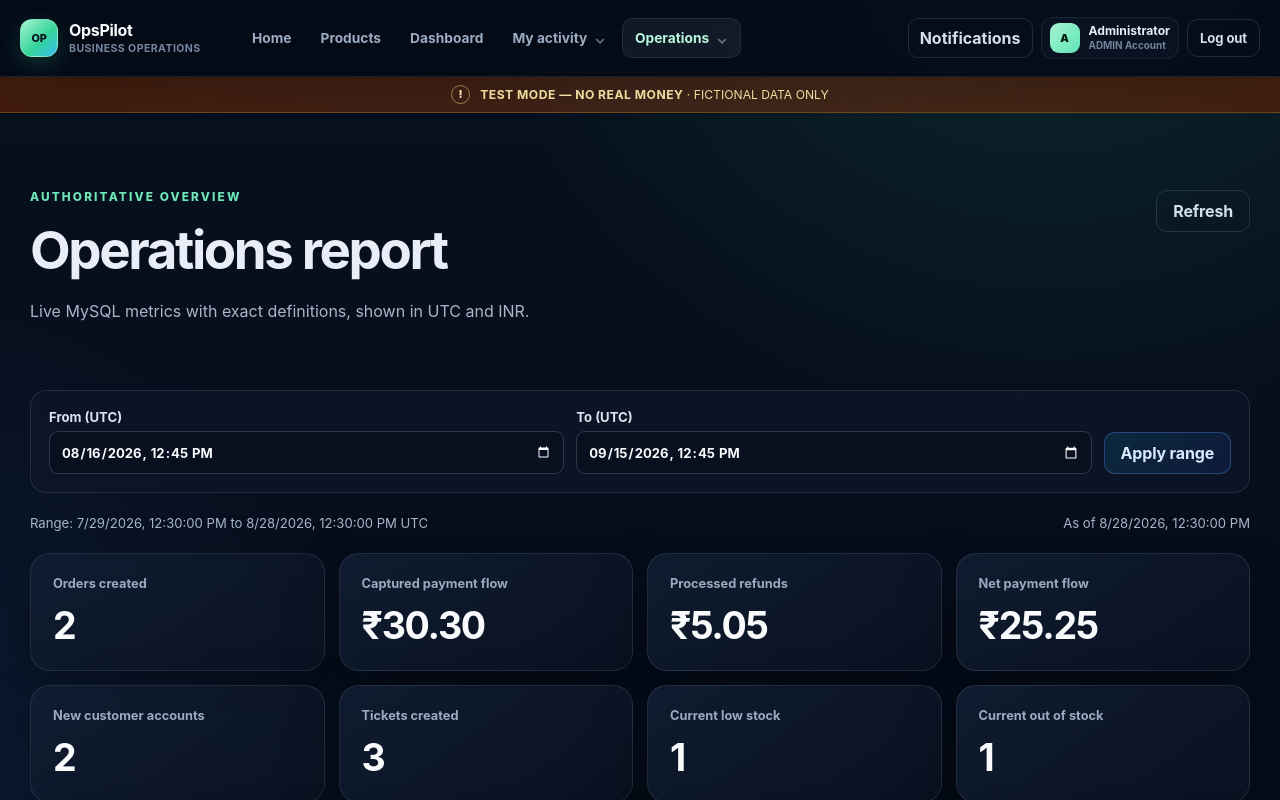
it: Phase 5 reports UI › shows validation and API failure states without discarding a loaded report
Expected: the text "Orders created" is shown, [53, 576, 147, 591]
Replace the text in the field labelled "From (UTC)" with "2026-08-03T00:00" at x=307, y=453, box [49, 431, 564, 474]
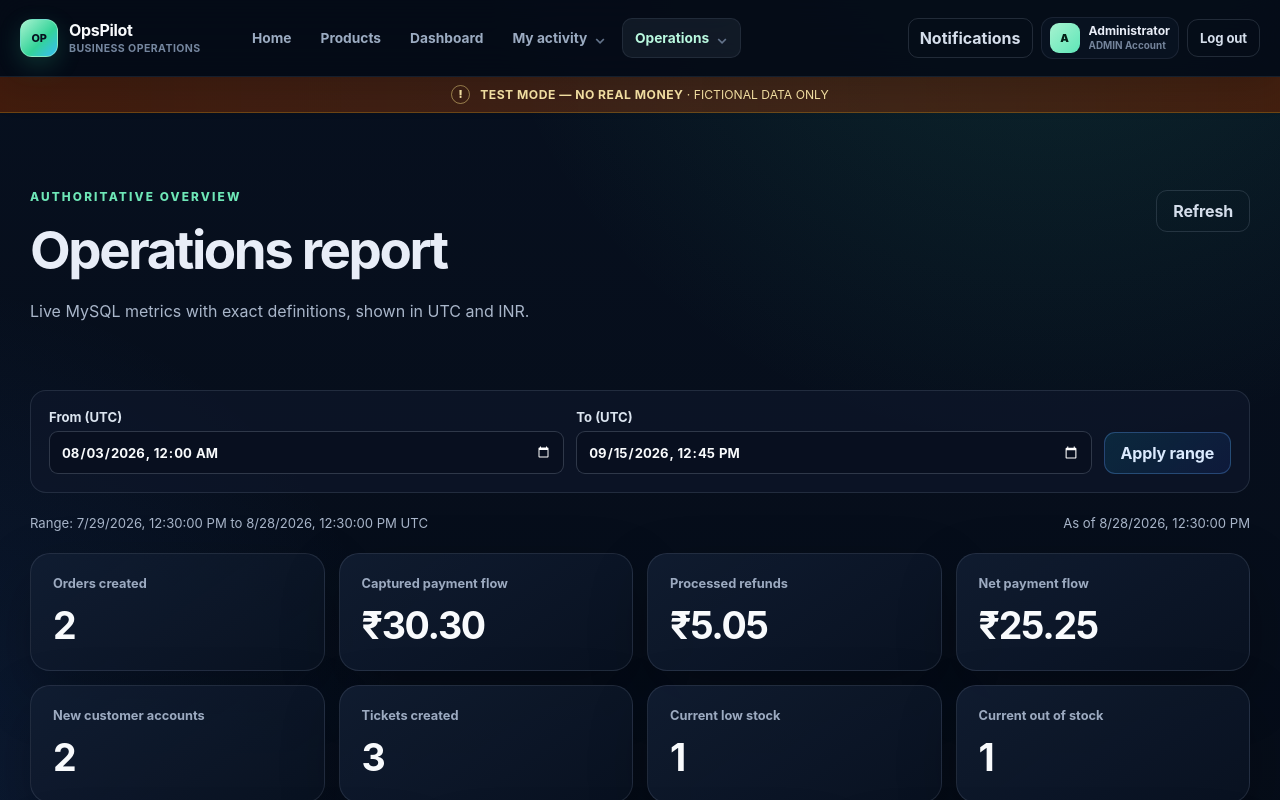
Replace the text in the field labelled "To (UTC)" with "2026-08-02T00:00" at x=834, y=453, box [576, 431, 1092, 474]
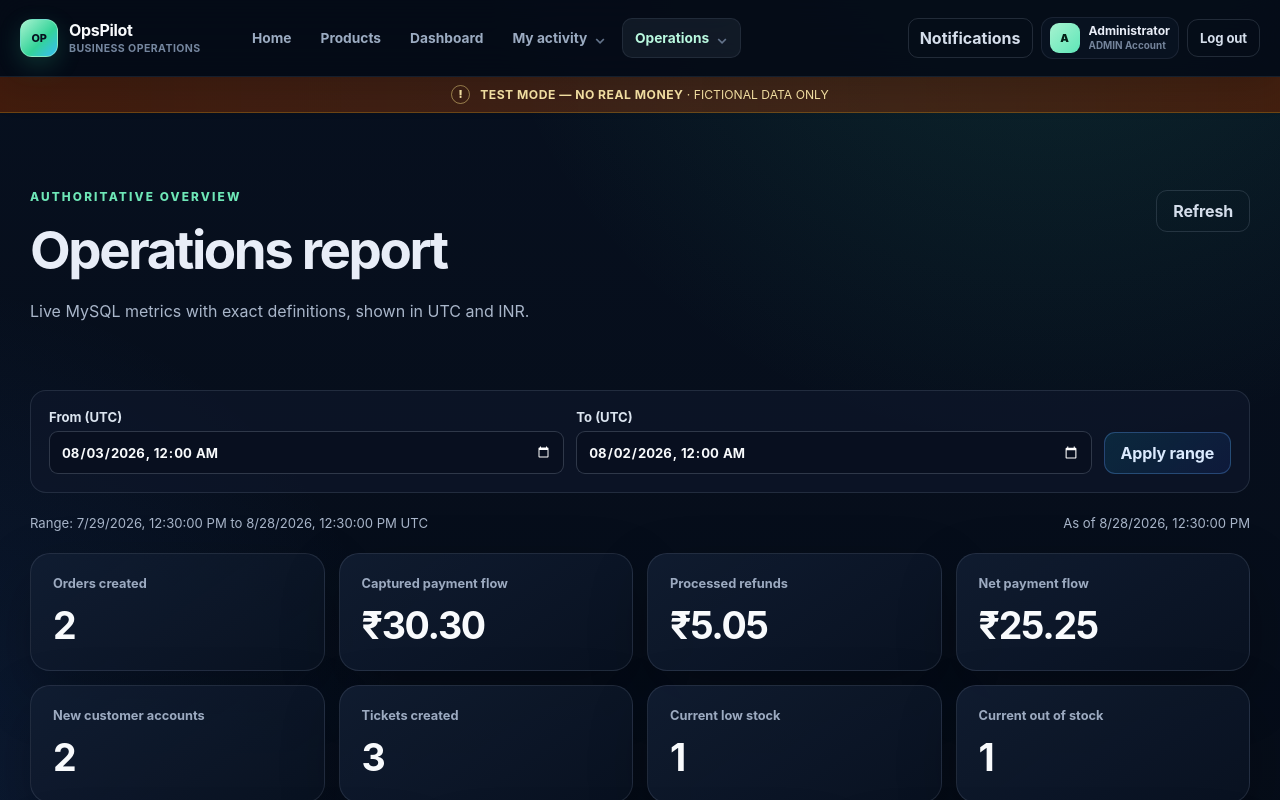
Click the button "Apply range" at x=1167, y=453, box [1104, 432, 1231, 474]
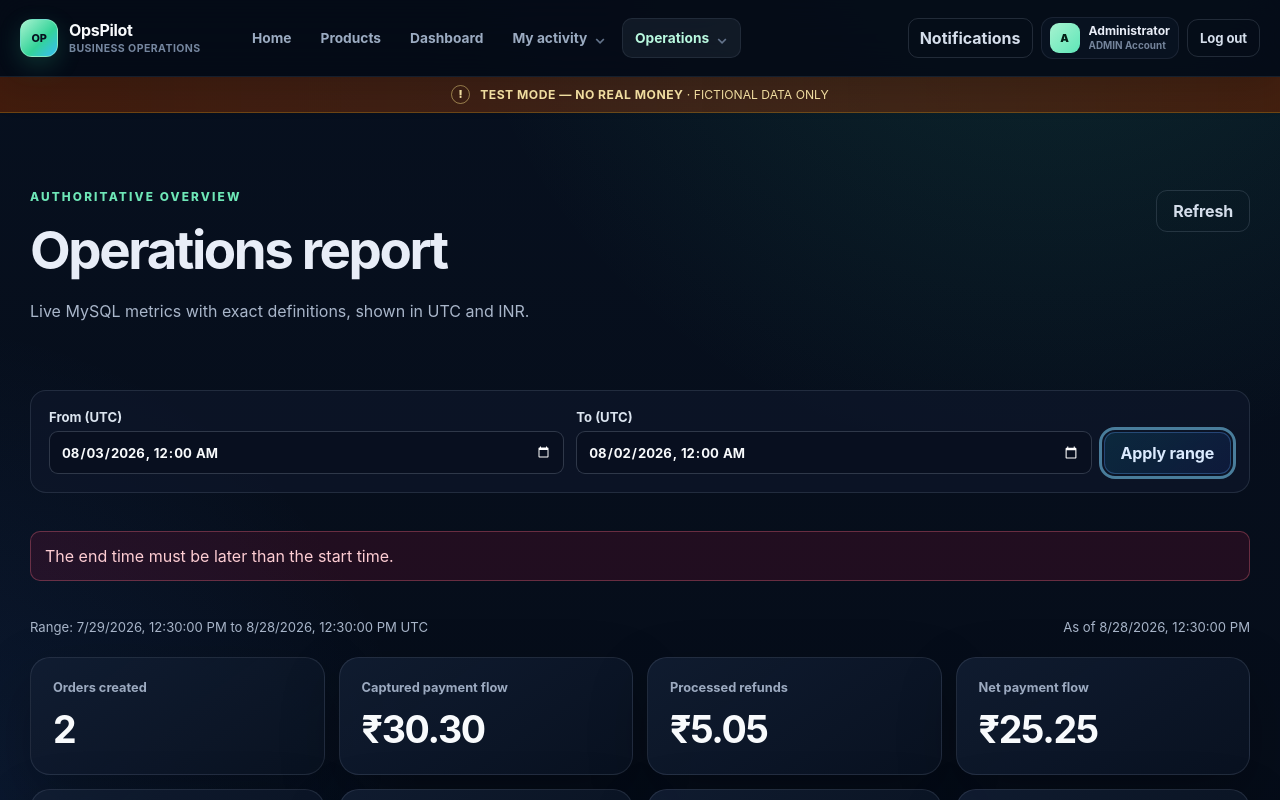
Expected: the text "Orders created" is shown, [53, 680, 147, 695]
Result: the message "The end time must be later than the start time." is shown at [30, 531, 1250, 581]
Click the button "Refresh" at x=1203, y=211, box [1156, 190, 1250, 232]
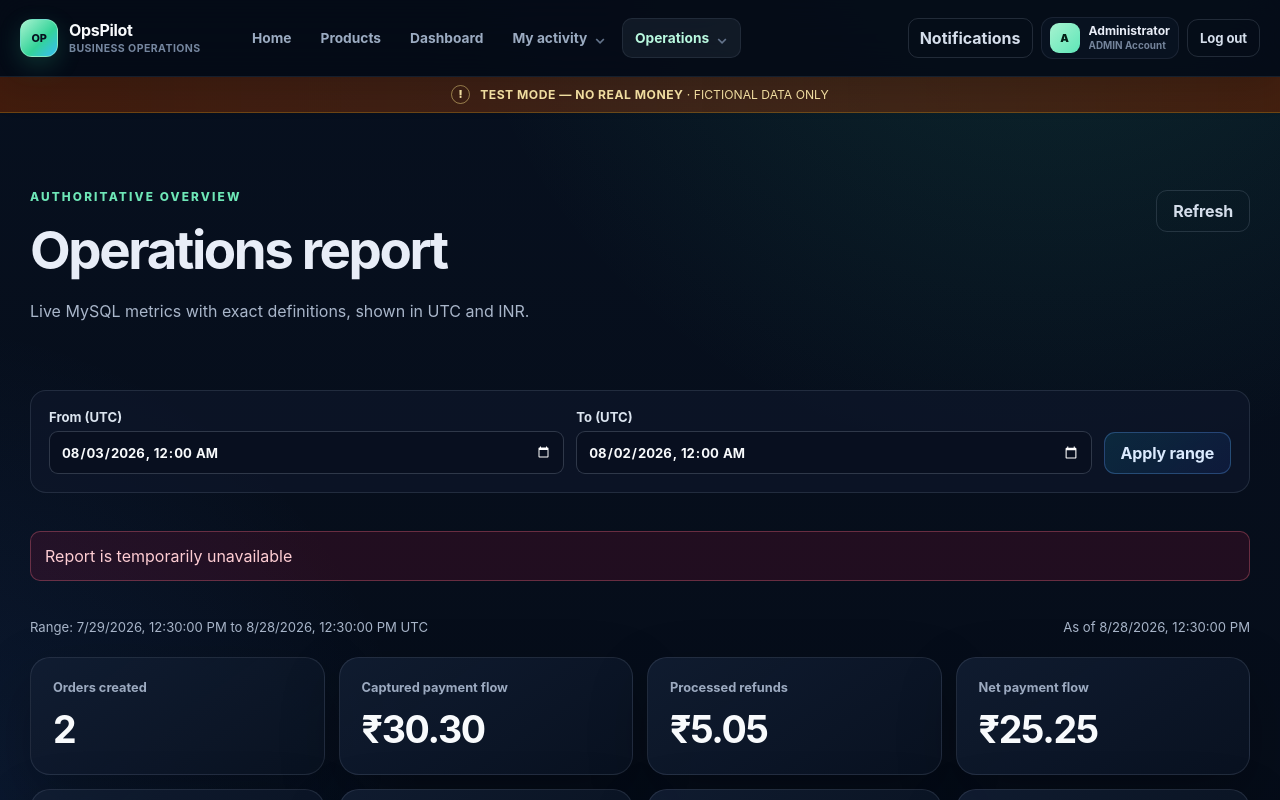
Result: the message "Report is temporarily unavailable" is shown at [30, 531, 1250, 581]
